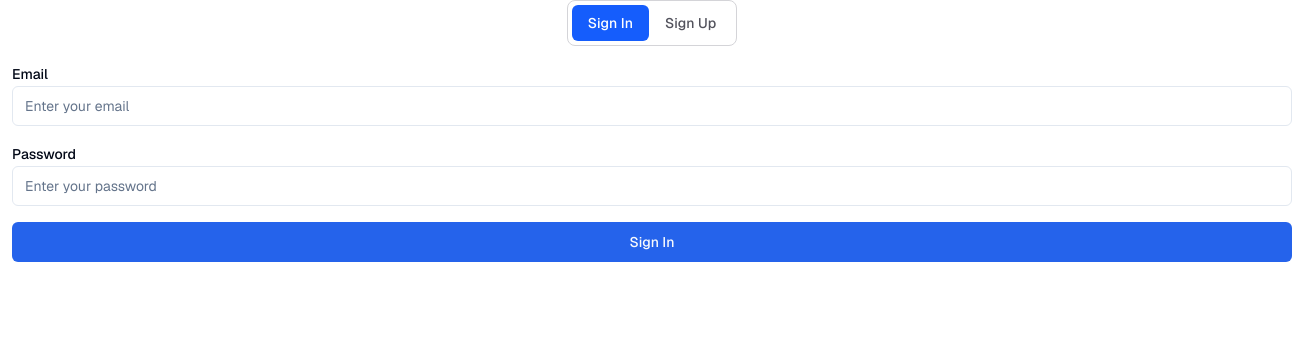
Test case: EmailPasswordForm Component (RED PHASE) › Sign In Functionality › should display error message on signin failure
The image size is (1304, 341).
Type "test@example.com" into the field labelled "Email" at point(652, 106), box [12,86,1292,126]
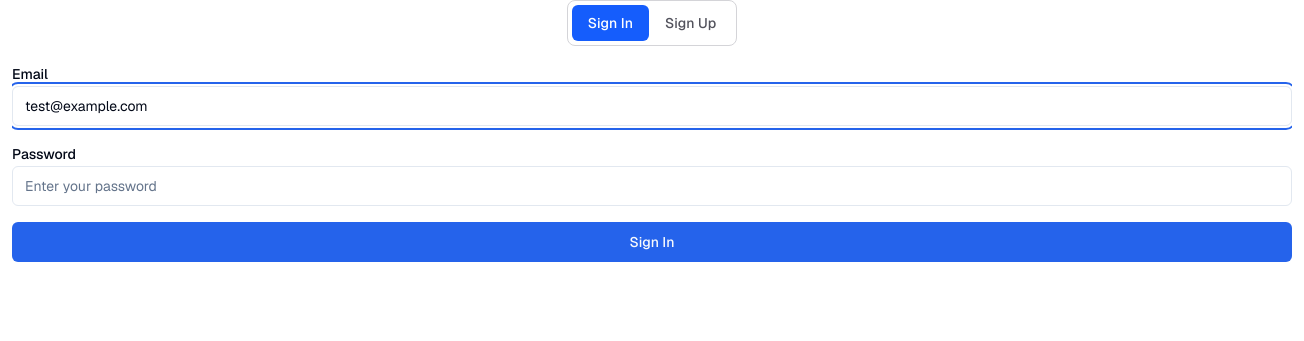
Type "wrongpassword" into the password field labelled "Password" at point(652, 186), box [12,166,1292,206]
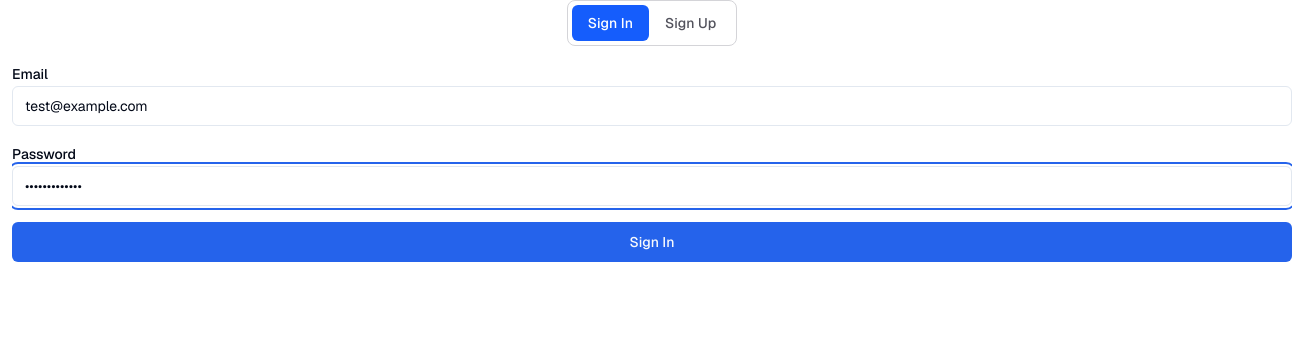
Click the button "Sign In" below "Password" at point(652, 242), box [12,222,1292,262]
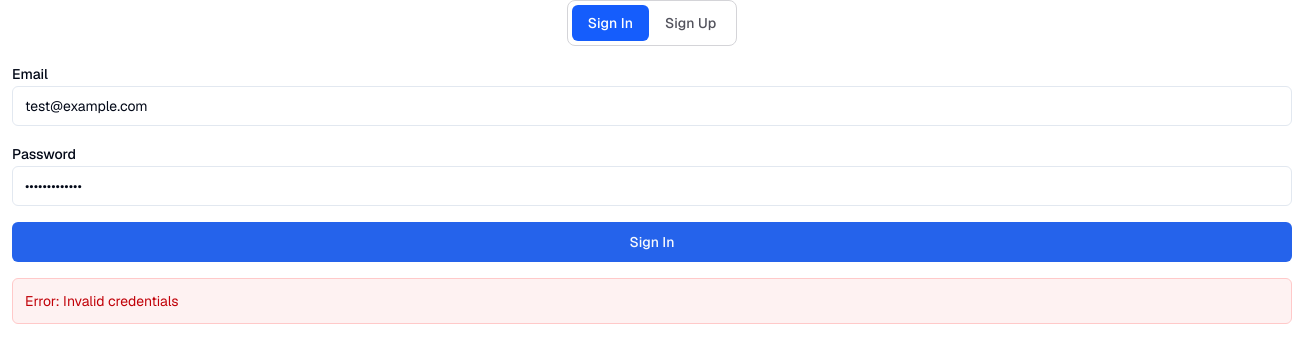
Now the text "Error: Invalid credentials" is shown, box [12,278,1292,324]
